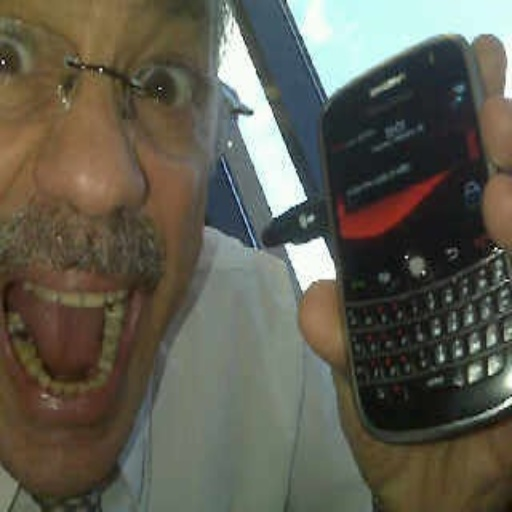hand: (299, 32, 510, 507)
